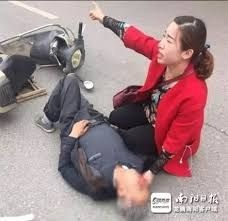falling: (30, 70, 154, 212)
